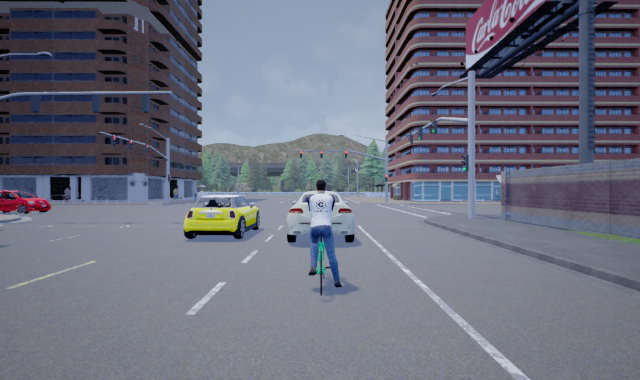bike: (308, 179, 344, 297)
pedestrian: (62, 186, 72, 202), (492, 186, 501, 202), (171, 186, 179, 202)
vehicle: (285, 190, 354, 243), (183, 194, 260, 239), (1, 190, 50, 213)
